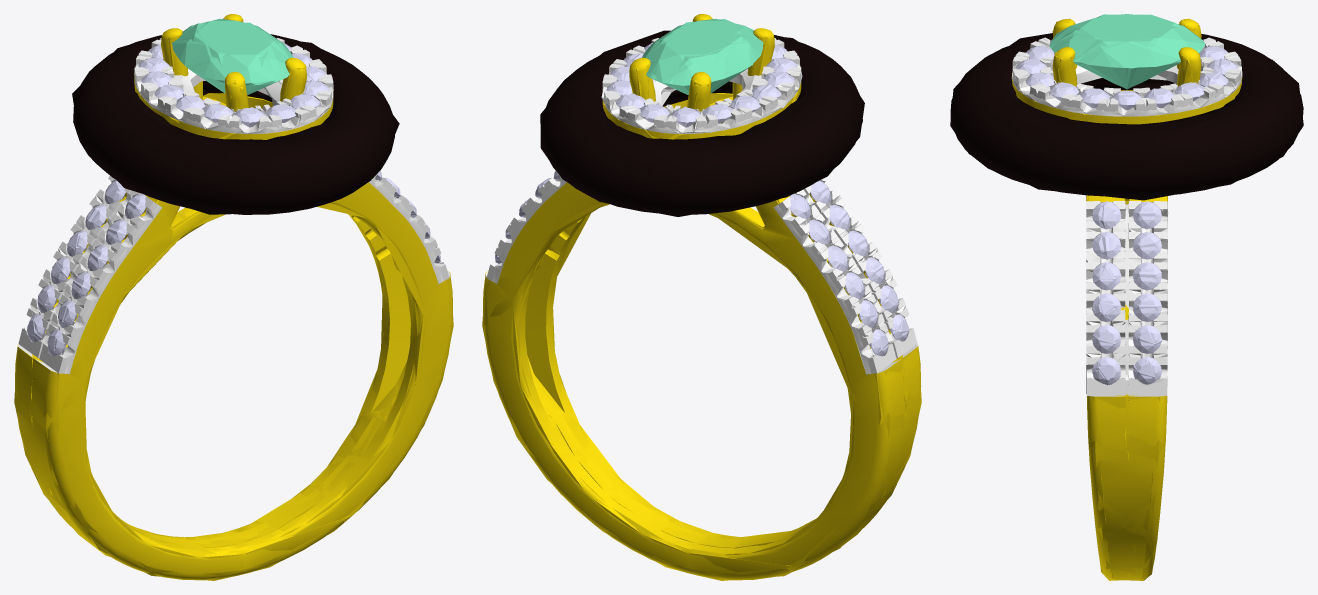
File: DLR-D000677823.glb
The picture shows the model from 3 angles, left to right: view 1: azimuth 30°, elevation 25°; view 2: azimuth 150°, elevation 25°; view 3: azimuth 270°, elevation 25°; orthographic projection.
Parts seen in each view (by area): view 1: highPolyMesh, lowPolyMesh; view 2: highPolyMesh, lowPolyMesh; view 3: highPolyMesh, lowPolyMesh.
Part boxes in pixels (left/top/right/bottom): highPolyMesh: left=15, top=14, right=452, bottom=580; lowPolyMesh: left=14, top=14, right=453, bottom=580; highPolyMesh: left=483, top=14, right=921, bottom=580; lowPolyMesh: left=482, top=14, right=921, bottom=580; highPolyMesh: left=950, top=14, right=1303, bottom=580; lowPolyMesh: left=950, top=14, right=1303, bottom=580.
Size of the model in its own units: 0.0215 by 0.0267 by 0.0161.
